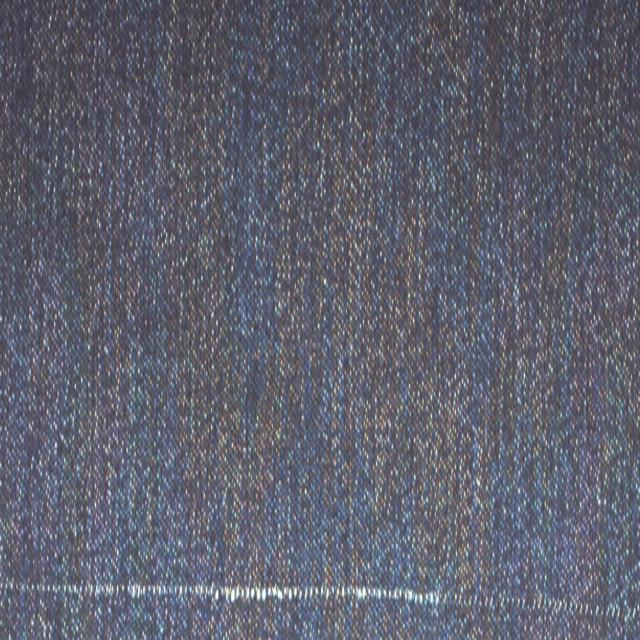Line: (3, 575, 635, 633)
